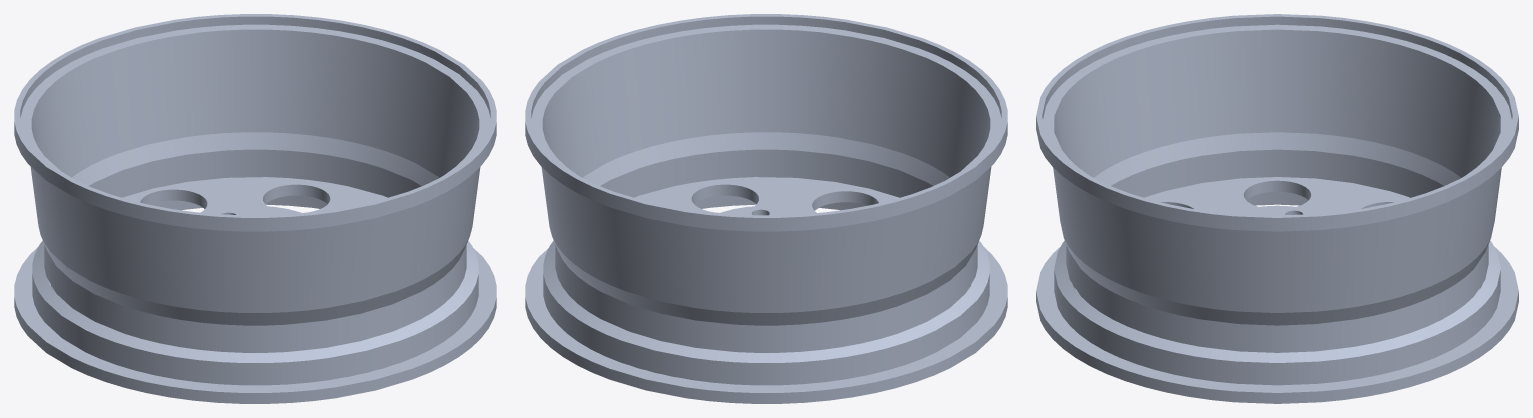
Rendered from Felge2.dae.
3 views of the same model, side by side, from view 1: azimuth 30°, elevation 25°; view 2: azimuth 150°, elevation 25°; view 3: azimuth 270°, elevation 25° (orthographic).
Visible parts, largest first — view 1: AST59B4144-DC_Brep (×2); view 2: AST59B4144-DC_Brep (×2); view 3: AST59B4144-DC_Brep (×2).
Part boxes in pixels (x1,y1,x2,y2): AST59B4144-DC_Brep (×2): (14, 14, 496, 403); AST59B4144-DC_Brep (×2): (525, 14, 1007, 403); AST59B4144-DC_Brep (×2): (1036, 14, 1518, 403).
Size of the model in its own units: 20 by 20 by 8.5.
